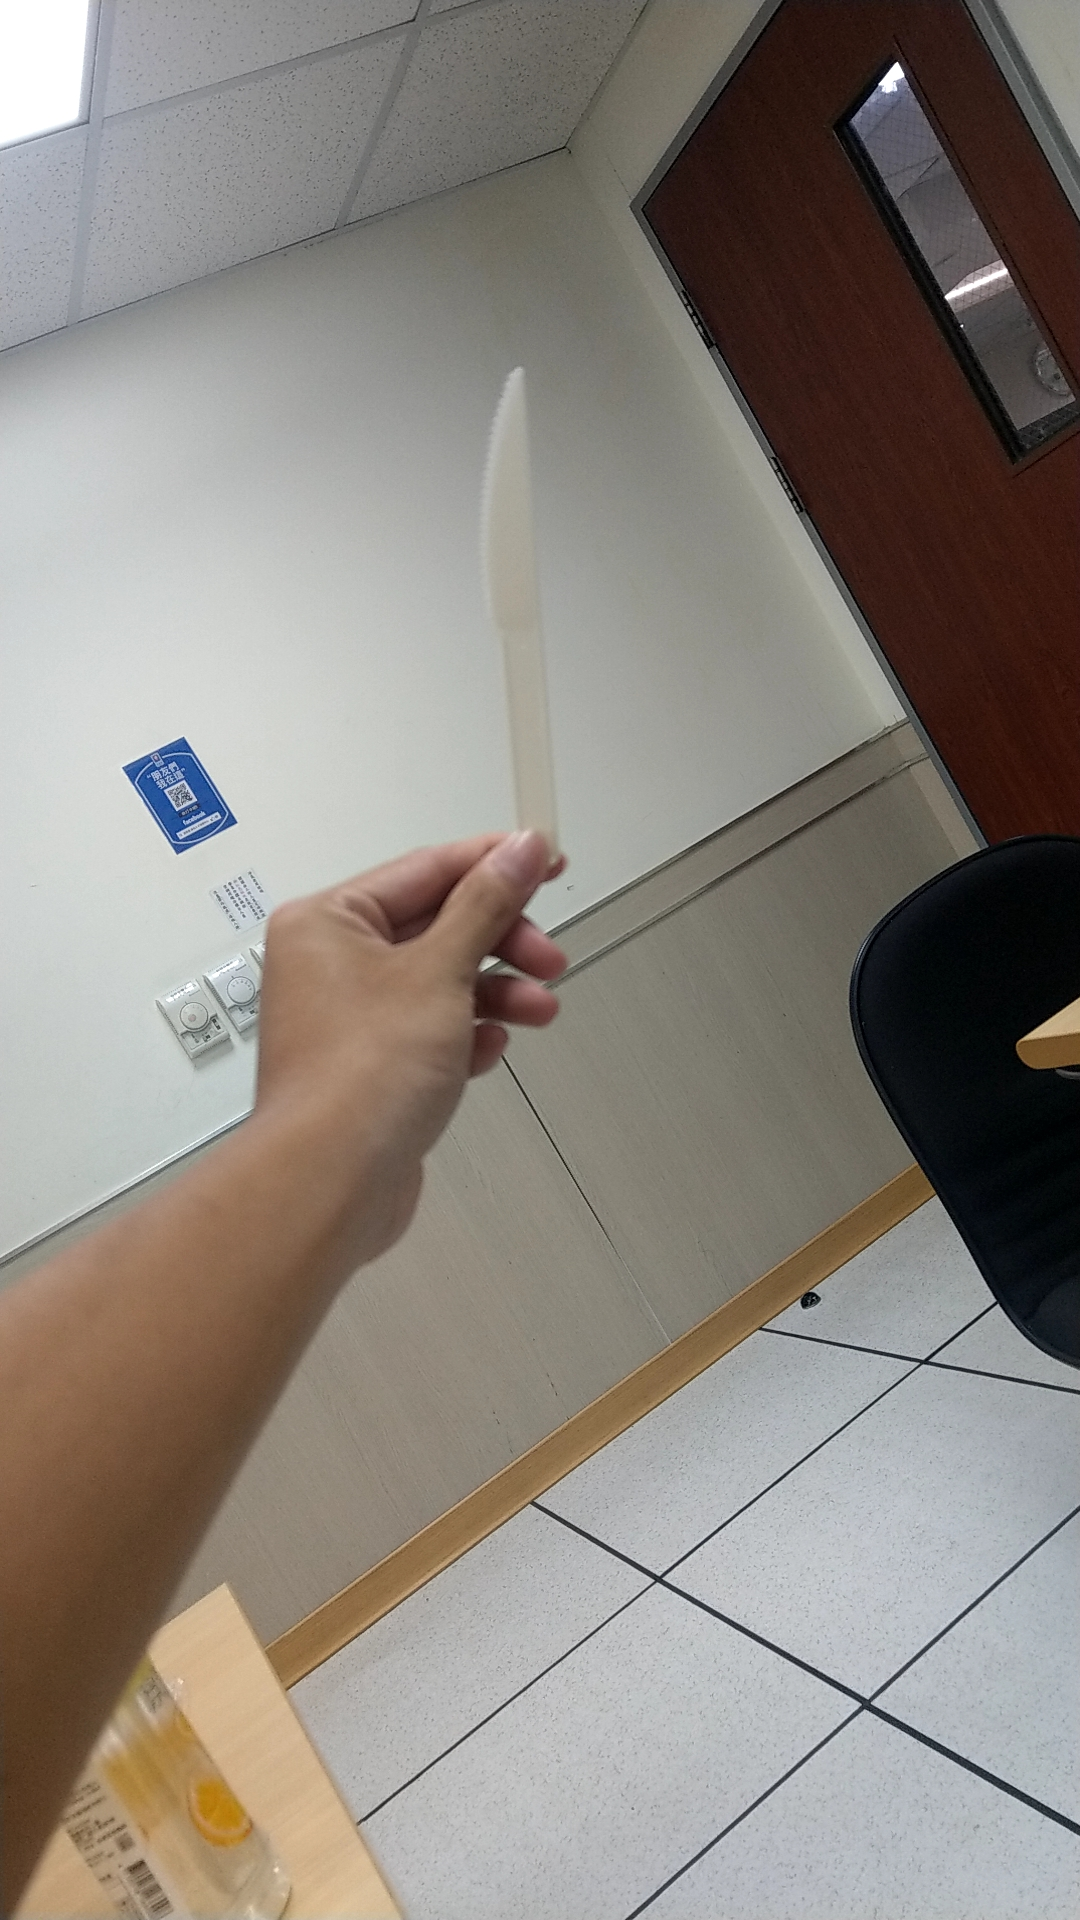knife: (447, 324, 585, 847)
